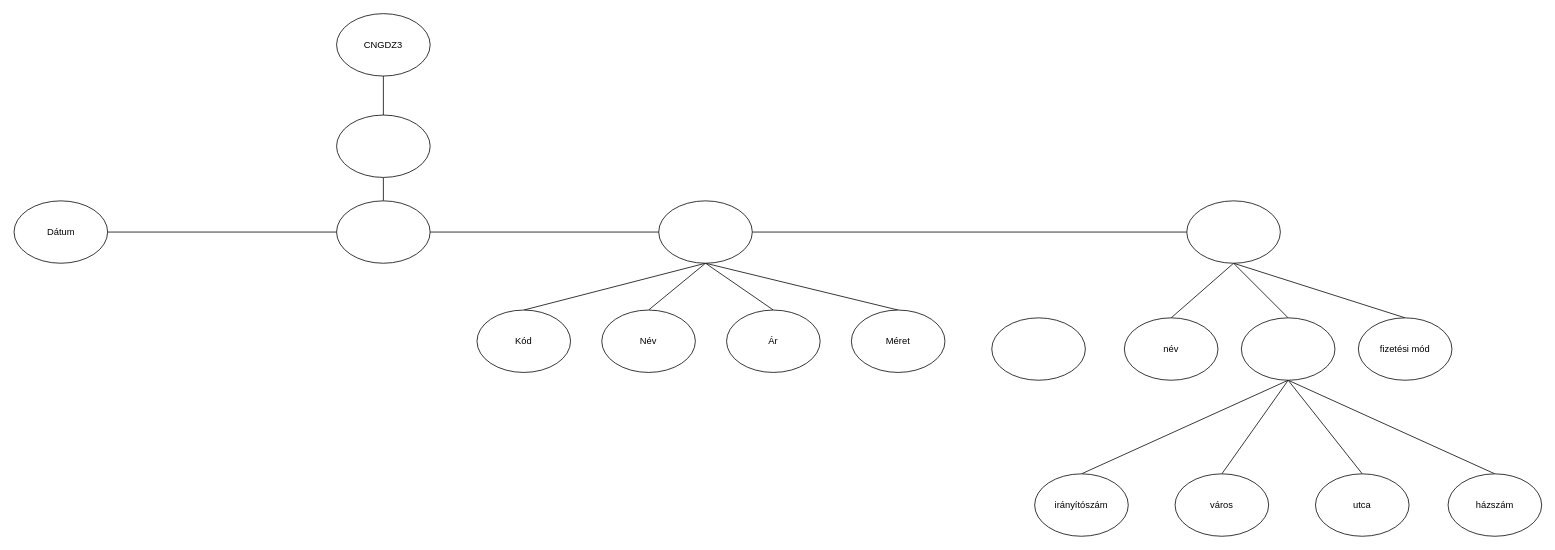
Some shapes in this 1555 by 550 pixel diagram are drawn without their labels. Each missing label, with the centre of its shape:
Darab: (x=383, y=231)
lakcím: (x=1288, y=348)
Termék: (x=705, y=231)
VID: (x=1038, y=348)
Vásárlás: (x=383, y=145)
Vásárló: (x=1233, y=231)
